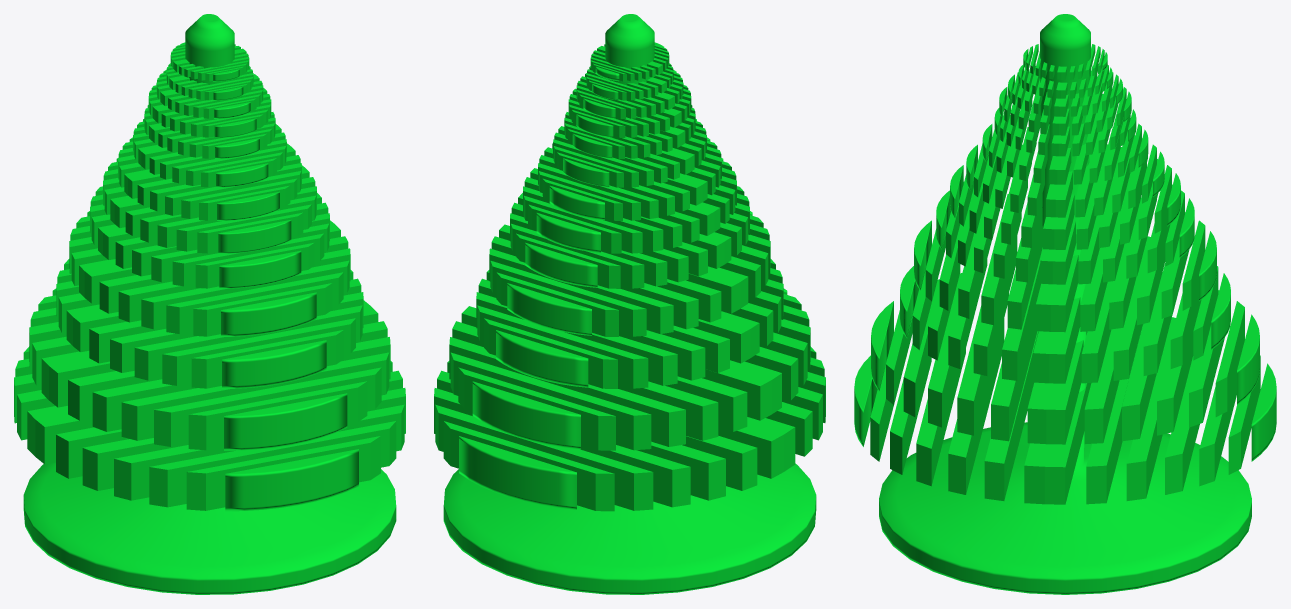
File: Lego Tree.fbx
3 renders of one model, left to right at view 1: azimuth 30°, elevation 25°; view 2: azimuth 150°, elevation 25°; view 3: azimuth 270°, elevation 25°, orthographic.
Visible parts, largest first — view 1: Cylinder.008; view 2: Cylinder.008; view 3: Cylinder.008.
Boxes of the visible parts, x1,y1,x2,y2 form: Cylinder.008: [14, 14, 405, 594]; Cylinder.008: [434, 14, 825, 594]; Cylinder.008: [854, 14, 1276, 594].
Size of the model in its own units: 145 by 210 by 161.
